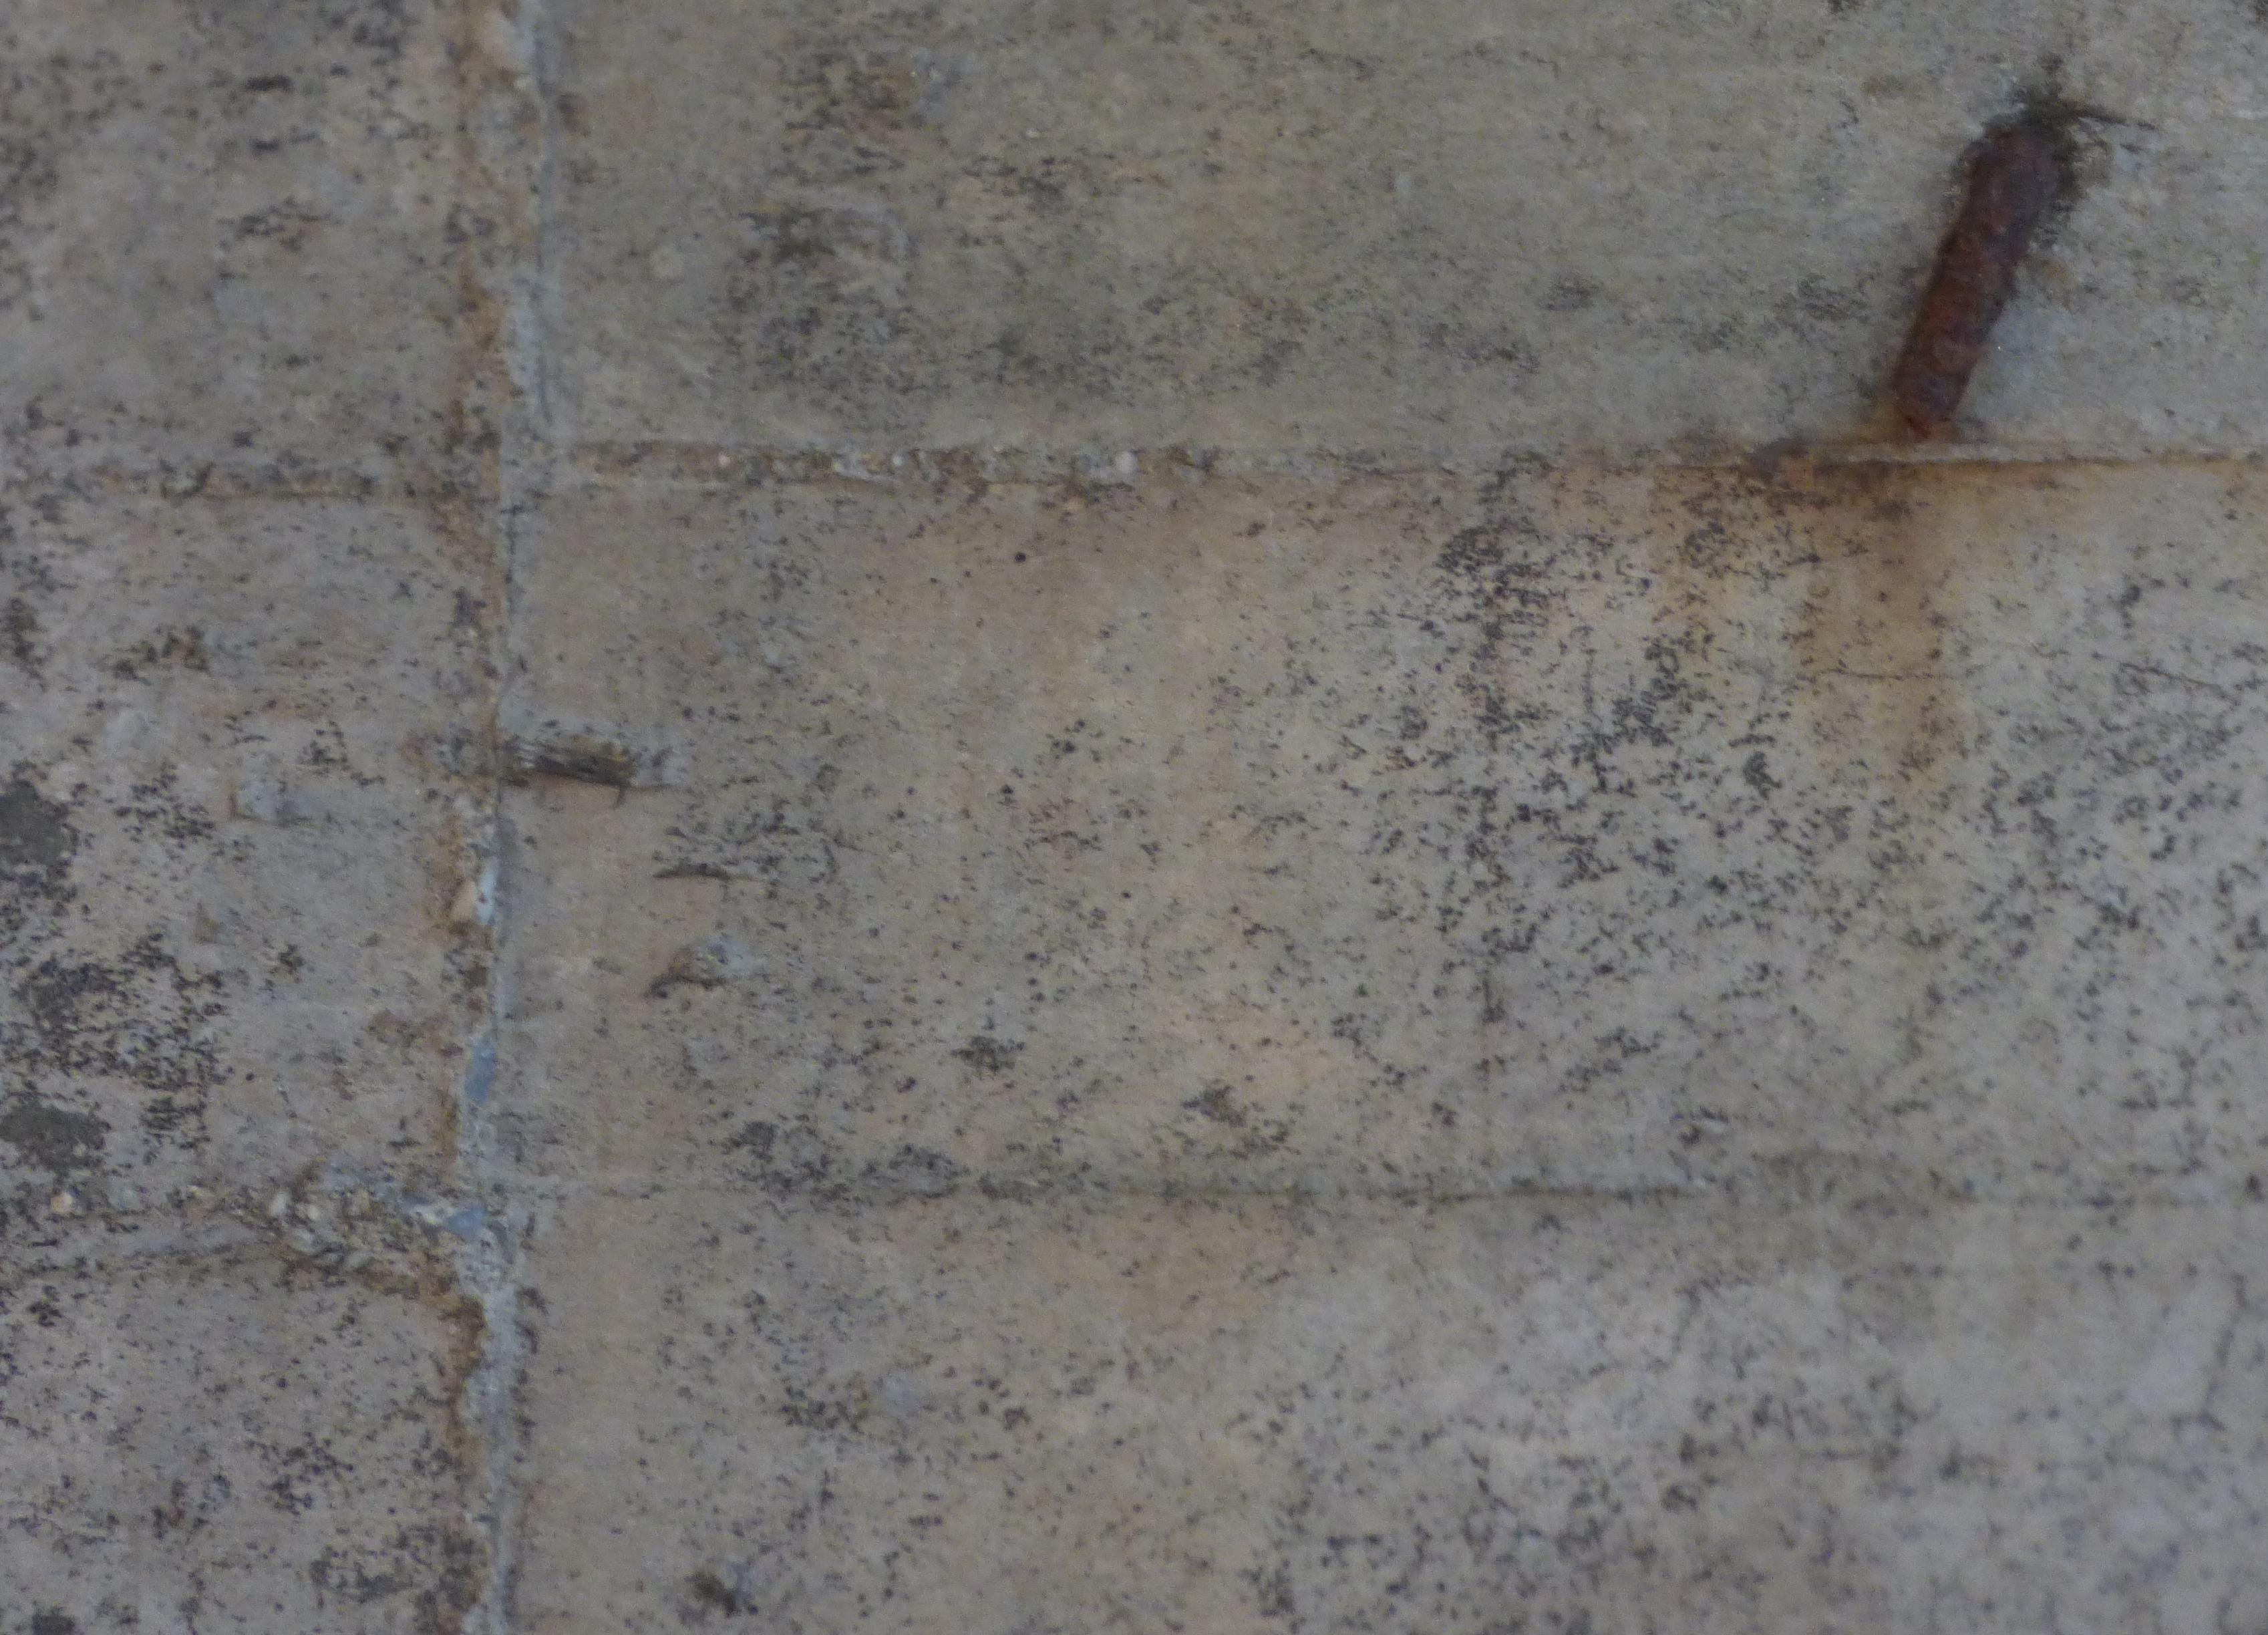Exposed reinforcement: (1888, 130, 2053, 440)
